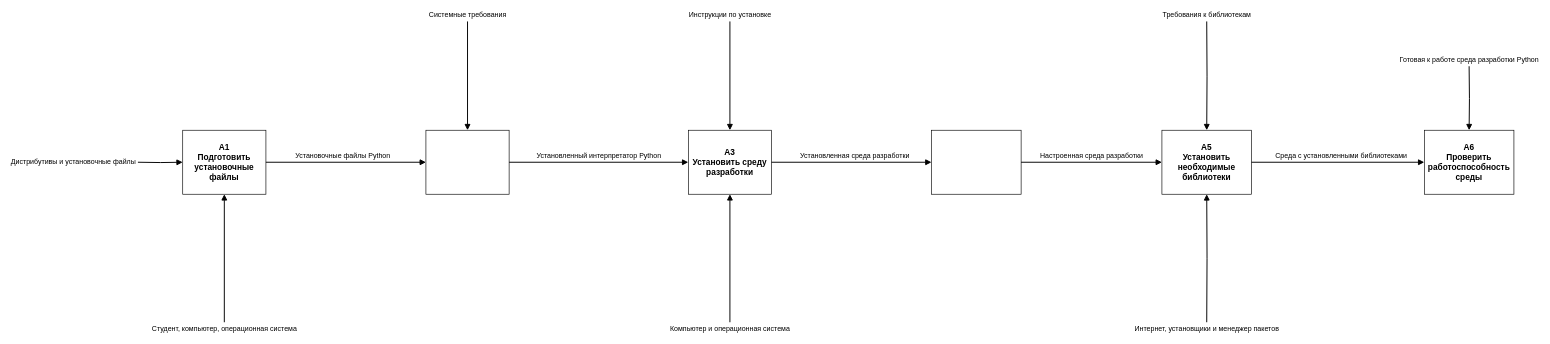
Some shapes in this 1550 by 344 pixel diagram are drawn without their labels. Each missing label, with the centre of its shape:
"A2 Установить Python" belongs at pixel 467 162.
"A4 Выполнить первоначальную настройку" belongs at pixel 976 162.
